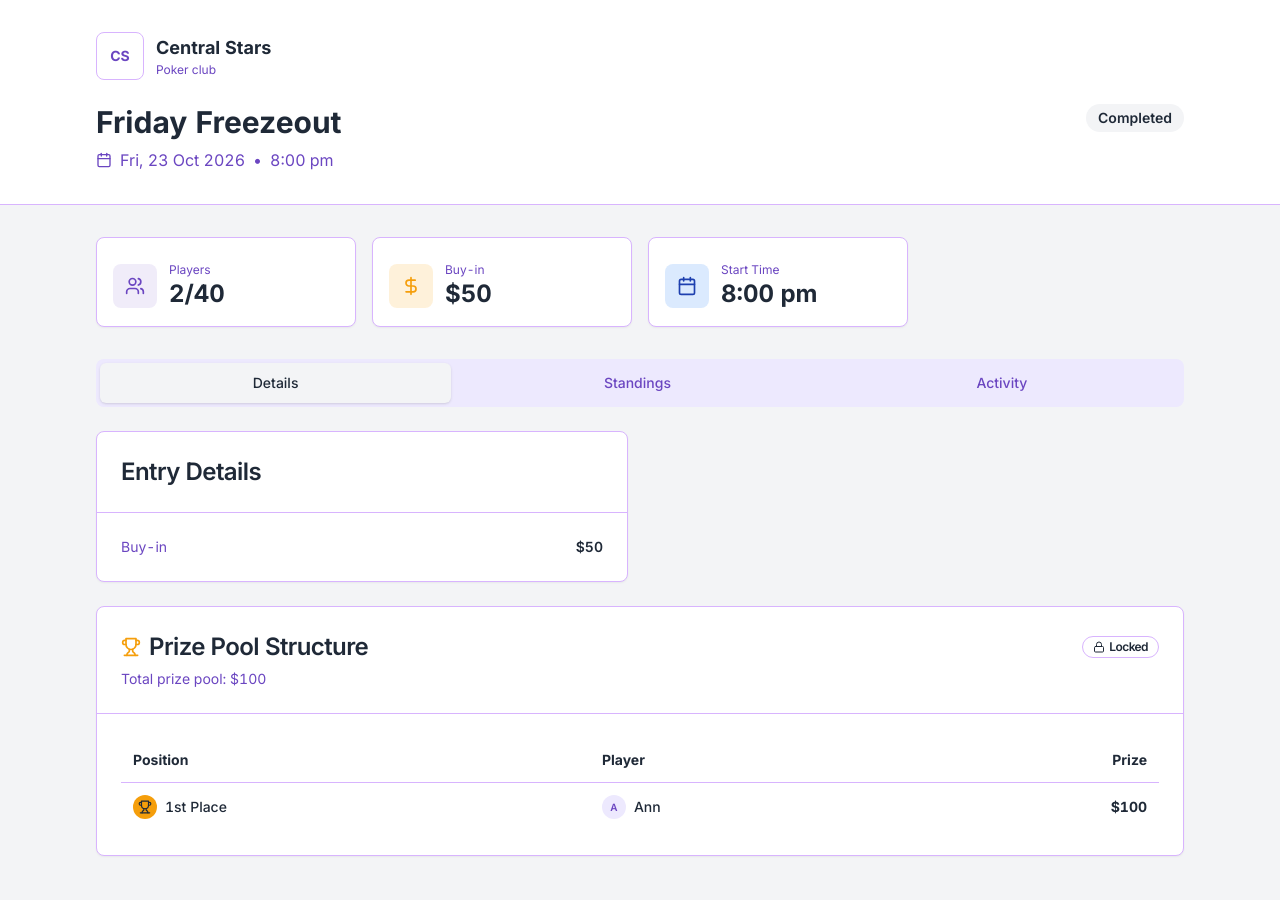
PublicTournamentView standings (PUB-25) › shows each finisher's place once the tournament is over, never 'Active' for the winner
The image size is (1280, 900).
Click the tab "Standings" at (637, 383), box [451, 363, 824, 403]
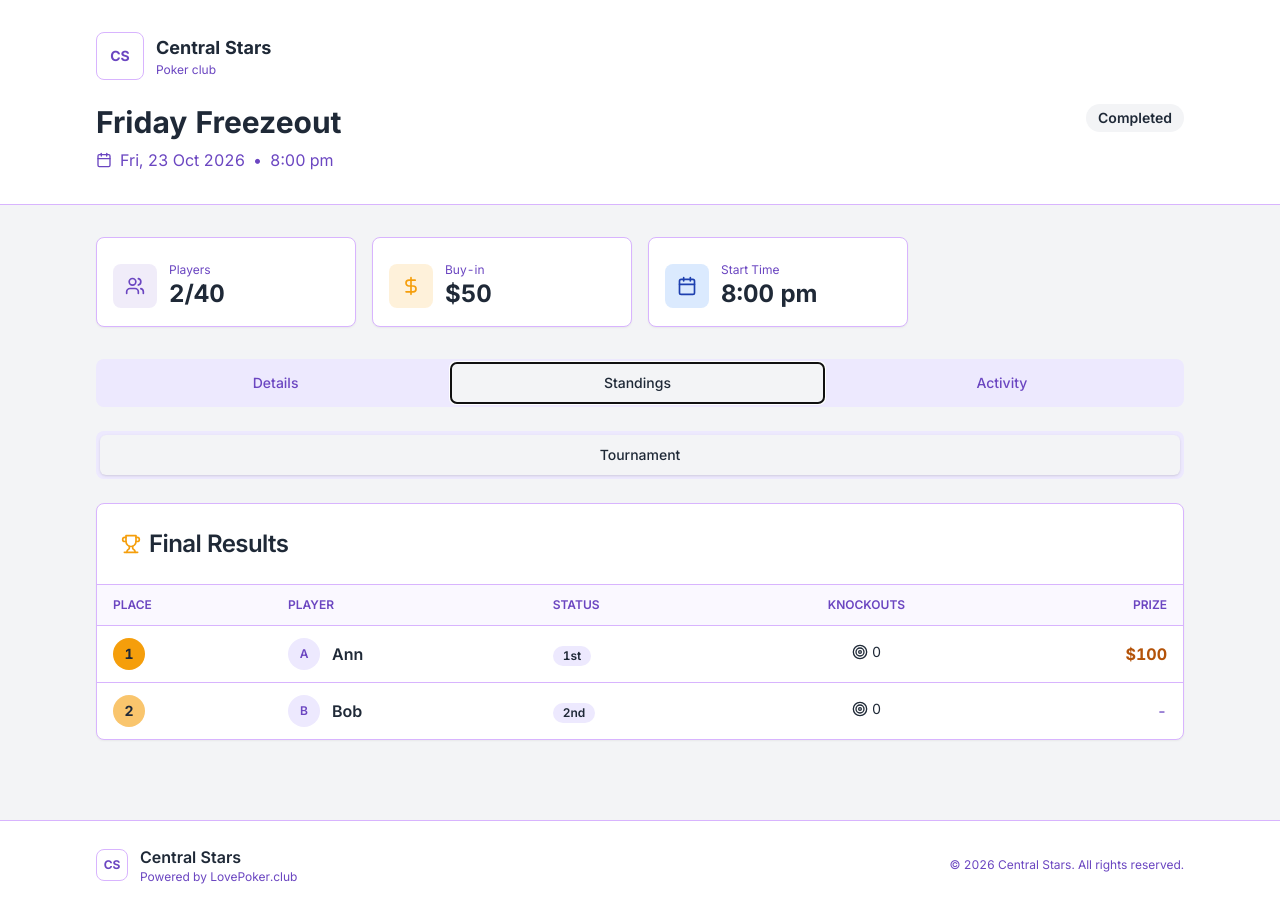
Check: the text "$100" is shown, box [1126, 644, 1167, 664]
Check: the heading "Final Results" is shown, box [121, 529, 288, 558]
Check: the text "1st" is shown 2 times
